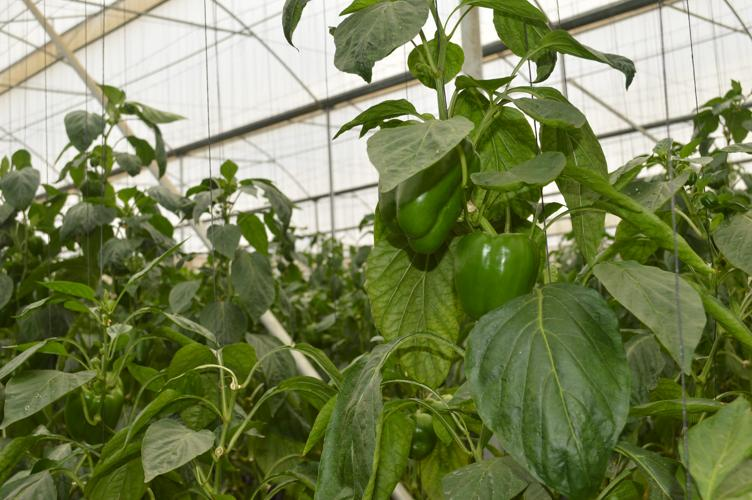BellPepper: (366, 126, 468, 256), (437, 225, 546, 320), (57, 365, 127, 449)
